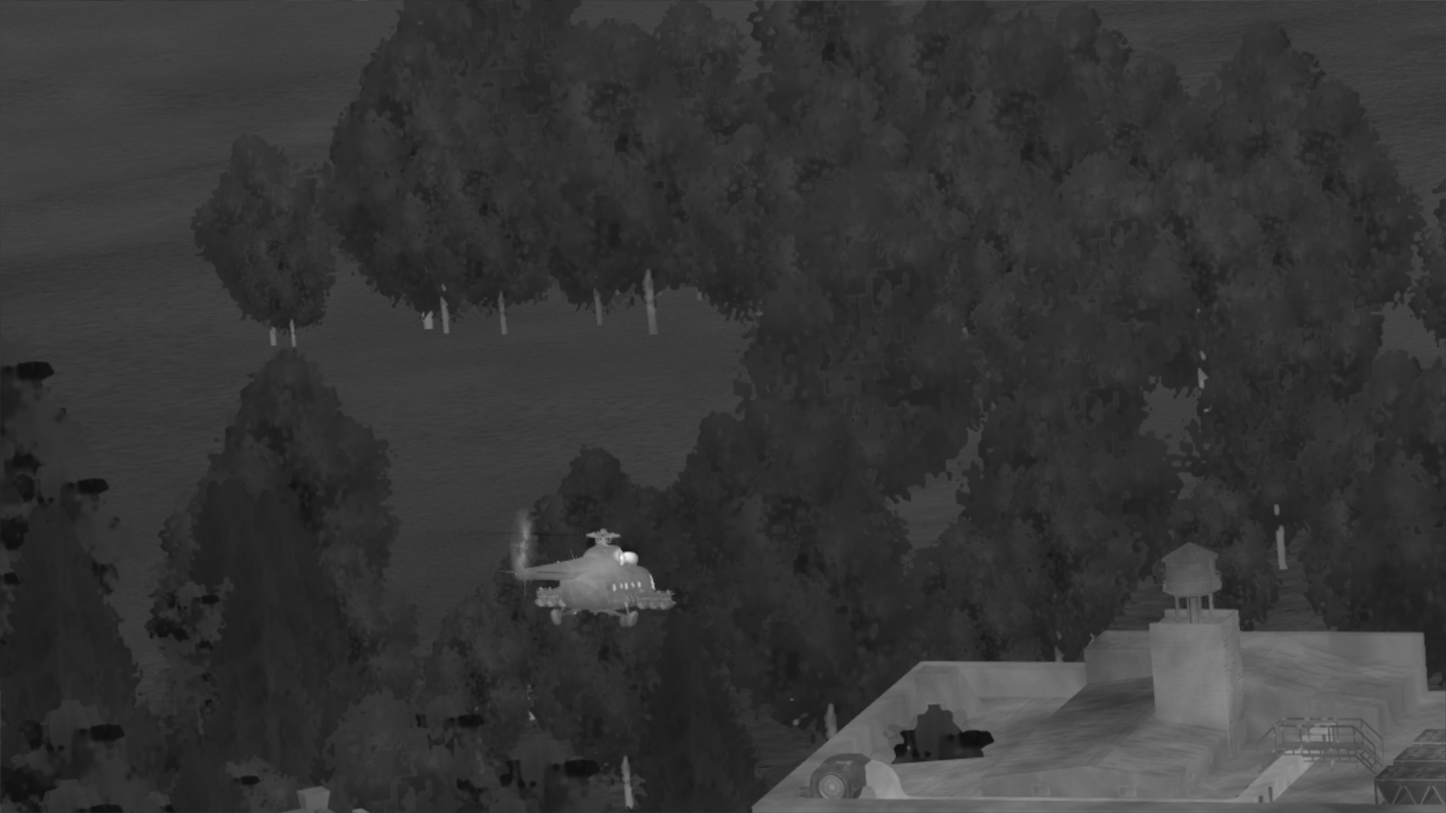mi8: (508, 528, 677, 628)
